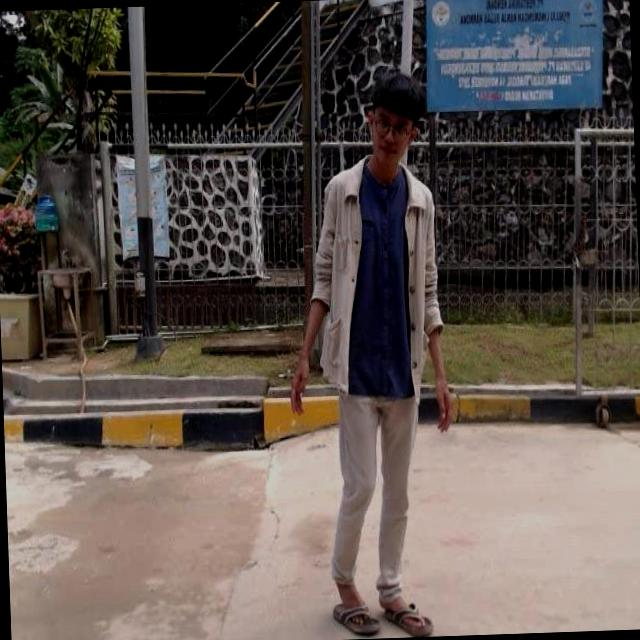no_vest: (290, 167, 460, 406)
